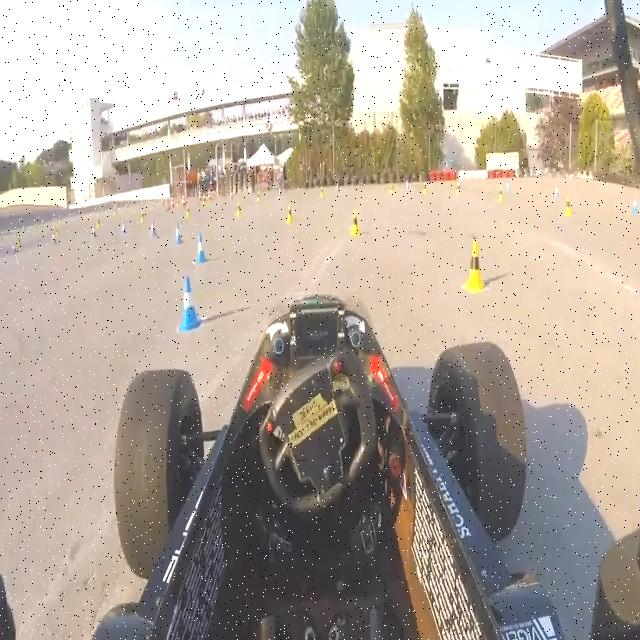blue_cone: (178, 274, 202, 334), (195, 232, 208, 266), (174, 222, 183, 246), (630, 194, 638, 214), (151, 218, 157, 238), (91, 223, 97, 241), (554, 184, 560, 202), (51, 228, 57, 246), (122, 218, 127, 234), (12, 240, 16, 254)
yellow_cone: (462, 238, 489, 294), (349, 208, 361, 235), (564, 194, 572, 218), (286, 202, 293, 224), (455, 177, 461, 197), (236, 200, 242, 218), (422, 178, 428, 196), (96, 212, 101, 230), (185, 203, 190, 220), (498, 186, 502, 202), (256, 188, 260, 204), (390, 180, 394, 194), (320, 185, 324, 199), (140, 210, 144, 224)
